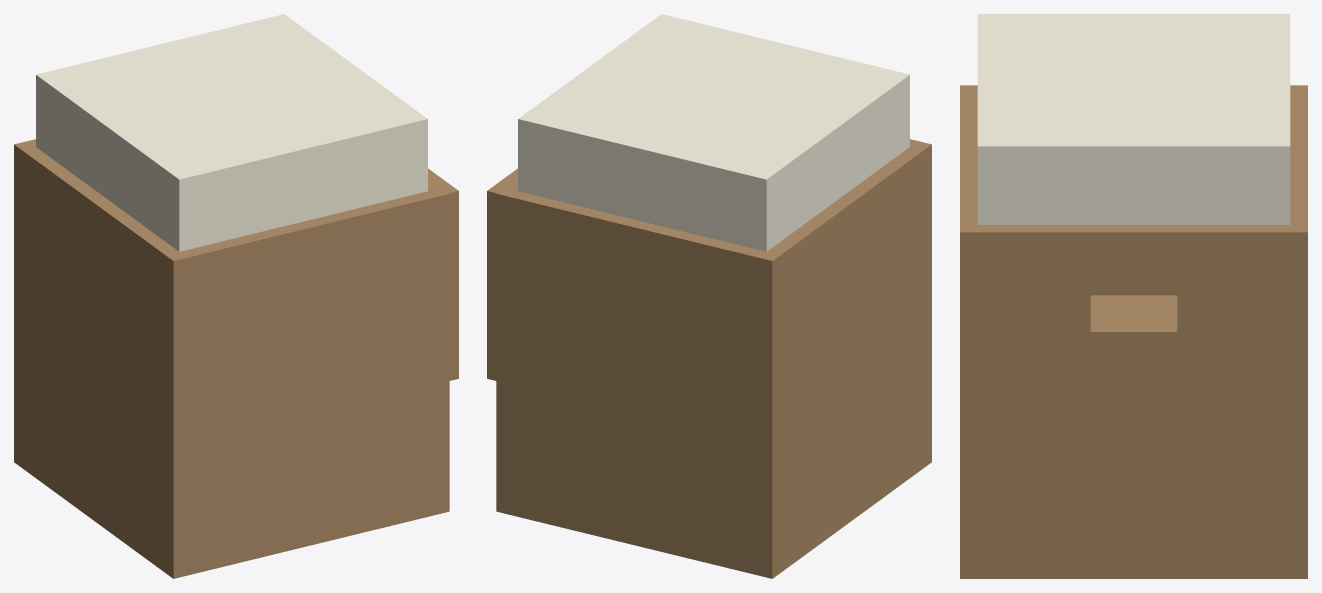
Rendered from Mug.glb.
3 renders of one model, left to right at view 1: azimuth 30°, elevation 25°; view 2: azimuth 150°, elevation 25°; view 3: azimuth 270°, elevation 25°, orthographic. The views are drawn at different scales.
Visible parts, largest first — view 1: Mug; view 2: Mug; view 3: Mug.
Boxes of the visible parts, <box> form: Mug: <box>14,14,458,578</box>; Mug: <box>487,14,931,578</box>; Mug: <box>960,14,1307,578</box>.
Bounding box in the file's own units: 0.25 × 0.27 × 0.2.
